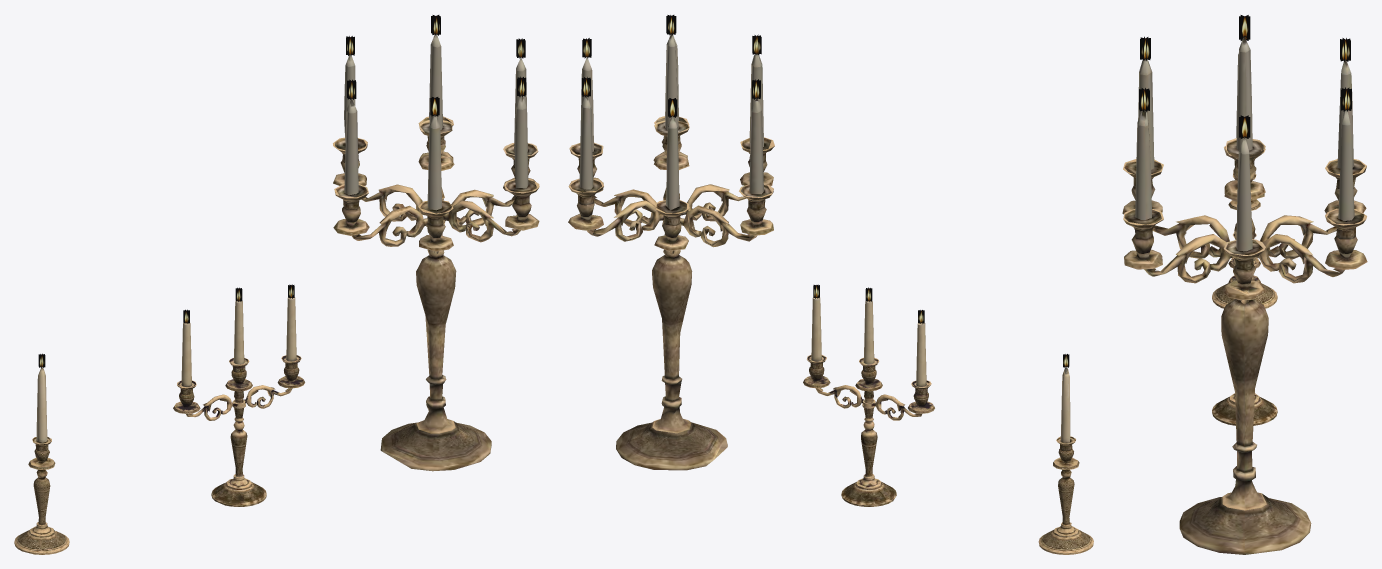
File: brass_candleholders.glb
The picture shows the model from 3 angles, left to right: view 1: azimuth 30°, elevation 25°; view 2: azimuth 150°, elevation 25°; view 3: azimuth 270°, elevation 25°; orthographic projection. The views are drawn at different scales.
Visible parts, largest first — view 1: brass_candleholder_03, brass_candleholder_02, brass_candleholder_01; view 2: brass_candleholder_03, brass_candleholder_02, brass_candleholder_01; view 3: brass_candleholder_03, brass_candleholder_02, brass_candleholder_01.
Part boxes in pixels (x1=…): brass_candleholder_03: x1=333, y1=15, x2=539, y2=471; brass_candleholder_02: x1=173, y1=284, x2=305, y2=506; brass_candleholder_01: x1=14, y1=353, x2=69, y2=554; brass_candleholder_03: x1=568, y1=15, x2=774, y2=470; brass_candleholder_02: x1=803, y1=284, x2=934, y2=506; brass_candleholder_01: x1=1038, y1=354, x2=1093, y2=554; brass_candleholder_03: x1=1122, y1=15, x2=1367, y2=554; brass_candleholder_02: x1=1212, y1=232, x2=1277, y2=425; brass_candleholder_01: x1=1212, y1=174, x2=1277, y2=308.
Bounding box in the file's own units: 1.05 × 0.8353 × 0.3634.
5 materials, 5 textured.
